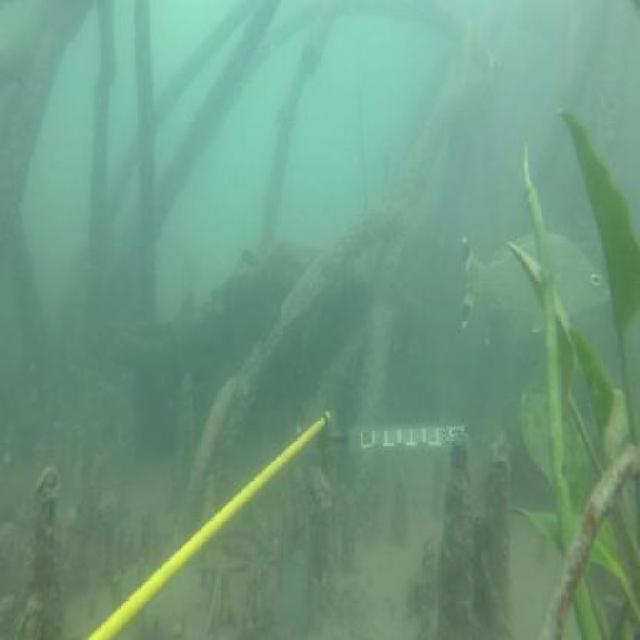Amniataba_caudivittatus: (455, 225, 620, 346)
